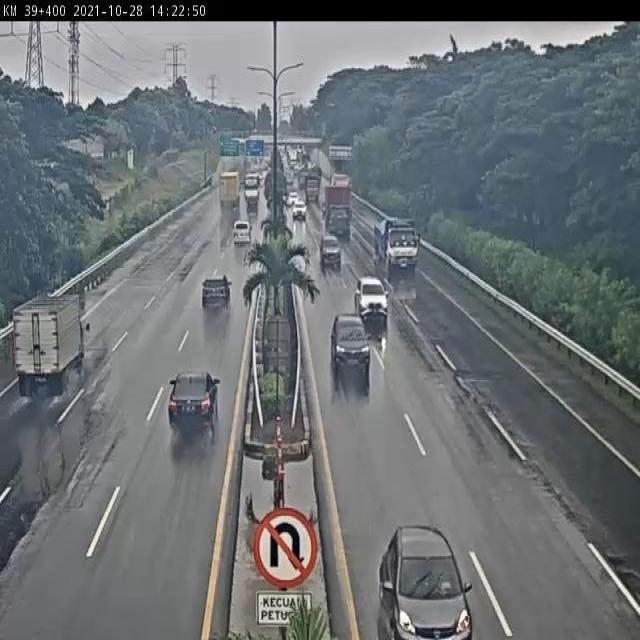Bus: (243, 174, 260, 212)
Car: (377, 526, 472, 638), (167, 372, 219, 438), (330, 313, 370, 396), (354, 276, 388, 325), (202, 274, 232, 308), (320, 234, 342, 269), (292, 199, 306, 220), (286, 191, 298, 208)
Truck: (12, 291, 86, 402), (372, 214, 418, 280), (323, 175, 352, 238), (220, 170, 240, 210), (300, 171, 320, 203)
Van: (233, 220, 252, 245)
